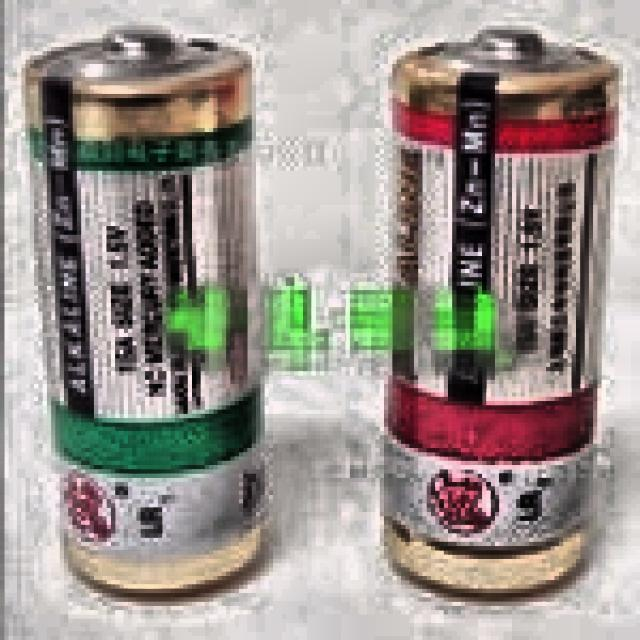battery: (27, 30, 264, 592), (385, 30, 617, 593)
